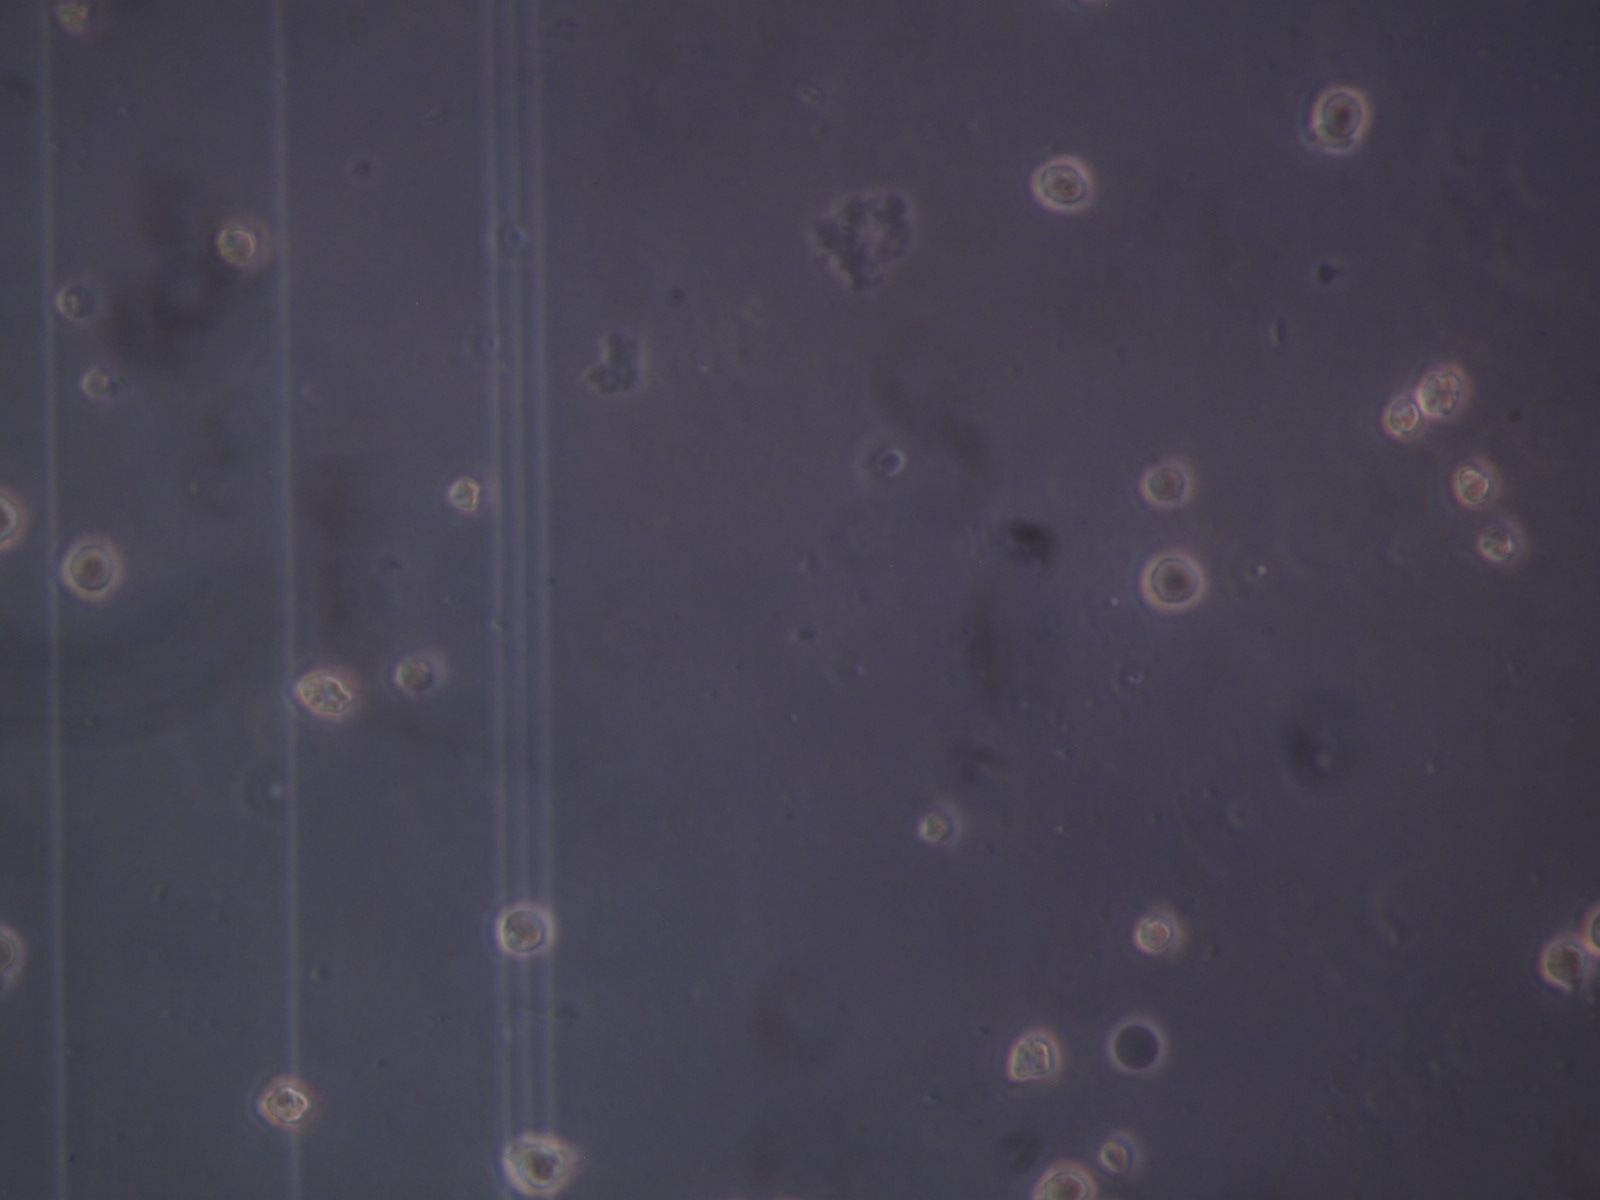hemo: (501, 1134, 573, 1196), (59, 537, 127, 601), (1141, 548, 1206, 613), (1311, 84, 1369, 153), (1031, 155, 1095, 214), (494, 901, 556, 955), (218, 216, 270, 279), (257, 1076, 317, 1129), (297, 671, 360, 720), (1007, 1027, 1061, 1084), (1417, 362, 1469, 421), (1453, 455, 1504, 511), (1473, 514, 1527, 566), (854, 432, 905, 487), (1541, 937, 1590, 992), (1138, 460, 1191, 511), (1034, 1160, 1100, 1200), (918, 795, 966, 846), (55, 281, 108, 324), (396, 649, 443, 696), (1102, 1128, 1143, 1179), (79, 366, 123, 411), (1381, 393, 1424, 440), (1134, 914, 1175, 954), (1, 489, 28, 551), (445, 474, 481, 516)
